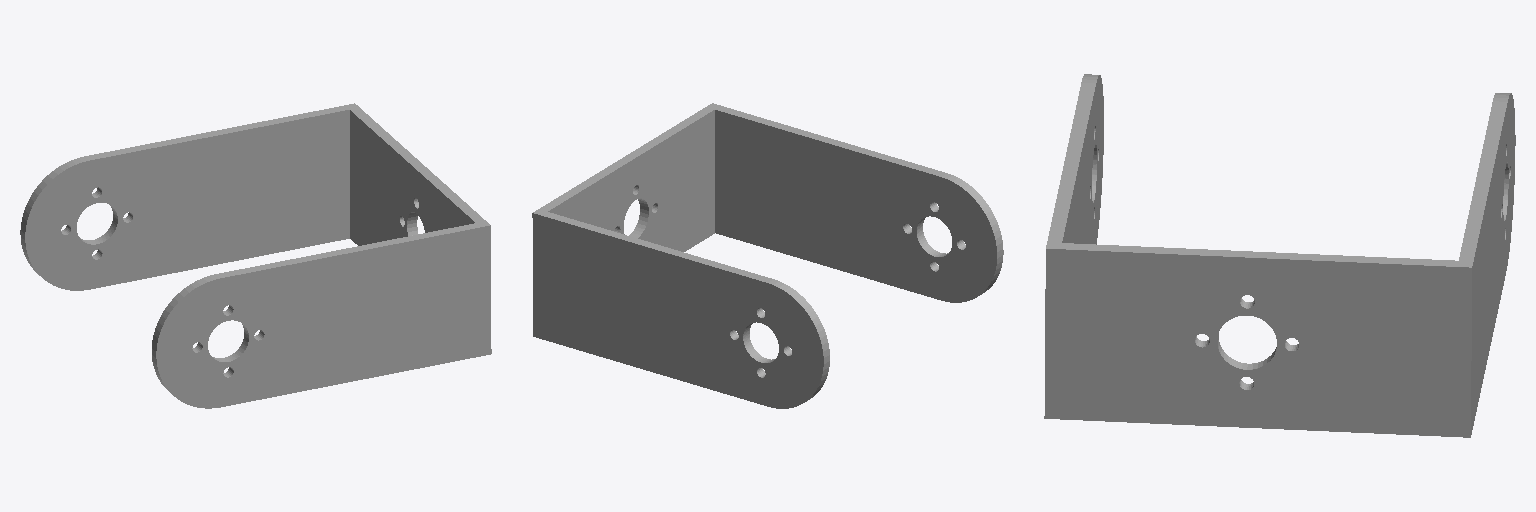
robot.urdf — pan_tilt:
<robot name="pan_tilt">

  <material name="grey">
      <color rgba="0.7 0.7 0.7 1" />
  </material>

  <material name="green">
      <color rgba="0 0.6 0 1" />
  </material>
  
  <material name="white">
      <color rgba="1 1 1 1"/>
  </material>>

  <link name="base_link">
	<visual>
         <geometry>
          <mesh filename="package://pan_tilt_urdf/meshes/base_cylinder.stl" scale ="0.0001 0.0001 0.0001"/>
         </geometry>
         <origin xyz="0 0 0.01"/>
         <material name="black">
           <color rgba="0 0 0 1"/>
         </material>
        </visual>
	<collision>
         <geometry>
          <mesh filename="package://pan_tilt_urdf//meshes/base_cylinder.stl" scale ="0.0001 0.0001 0.0001"/>
         </geometry>
         <origin xyz="0 0 0.01"/>
        </collision>
  </link>

  <link name="platform">
	<visual>
         <geometry>
          <mesh filename="package://pan_tilt_urdf/meshes/top_plate.stl" scale ="0.001 0.001 0.001"/>
         </geometry>
         <origin xyz="0 0 0"/>
         <material name="green"/>
        </visual>
	<collision>
         <geometry>
          <mesh filename="package://pan_tilt_urdf/meshes/top_plate.stl" scale ="0.001 0.001 0.001"/>
         </geometry>
         <origin xyz="0 0 0"/>
        </collision>
  </link>

  <link name="lower_arm">
	<visual>
         <geometry>
          <mesh filename="package://pan_tilt_urdf/meshes/lower_arm.stl" scale ="0.001 0.001 0.001"/>
         </geometry>
         <origin xyz="0 0 0"/>
         <material name="grey"/>
        </visual>
	<collision>
         <geometry>
          <mesh filename="package://pan_tilt_urdf/meshes/lower_arm.stl" scale ="0.001 0.001 0.001"/>
         </geometry>
         <origin xyz="0 0 0"/>
        </collision>
  </link>

 
  <joint name="joint1" type="revolute">
    <axis xyz="0 0 1" />
    <limit effort="1000.0" lower="1.56" upper="4.68" velocity="1.0" />
    <parent link="base_link"/>
    <child link="platform"/>
    <origin rpy="0 0 1.5" xyz="0 0 0.48"/>
  </joint>

  <joint name="joint2" type="revolute">
    <axis xyz="1 0 0" />
    <limit effort="1000.0" lower="0.0" upper="3.12" velocity="1.0" />
    <parent link="platform"/>
    <child link="lower_arm"/>
    <origin xyz="0 0.19 0.28"/>
  </joint>

 </robot>

--- Render facts (derived) ---
The picture shows the robot from 3 angles, left to right: view 1: azimuth 30°, elevation 25°; view 2: azimuth 150°, elevation 25°; view 3: azimuth 270°, elevation 25°; orthographic projection.
Robot: pan_tilt — 3 links, 2 joints (2 revolute); root link base_link; default pose: all joints at 0 but 1 set to mid-range because 0 is outside their limits (joint1 = 3.12).
Links seen in each view (by area): view 1: lower_arm; view 2: lower_arm; view 3: lower_arm.
Boxes of the visible links, x1,y1,x2,y2 form: lower_arm: (20, 103, 491, 408); lower_arm: (532, 103, 1003, 408); lower_arm: (1044, 74, 1515, 437).
Bounding box of the posed robot: 0.6985 × 0.6271 × 0.2544 m (x, y, z).
1 mesh visuals loaded from 3 distinct referenced files (1 binary STL); not drawn: 2 (reference not matched to a file when rendering).